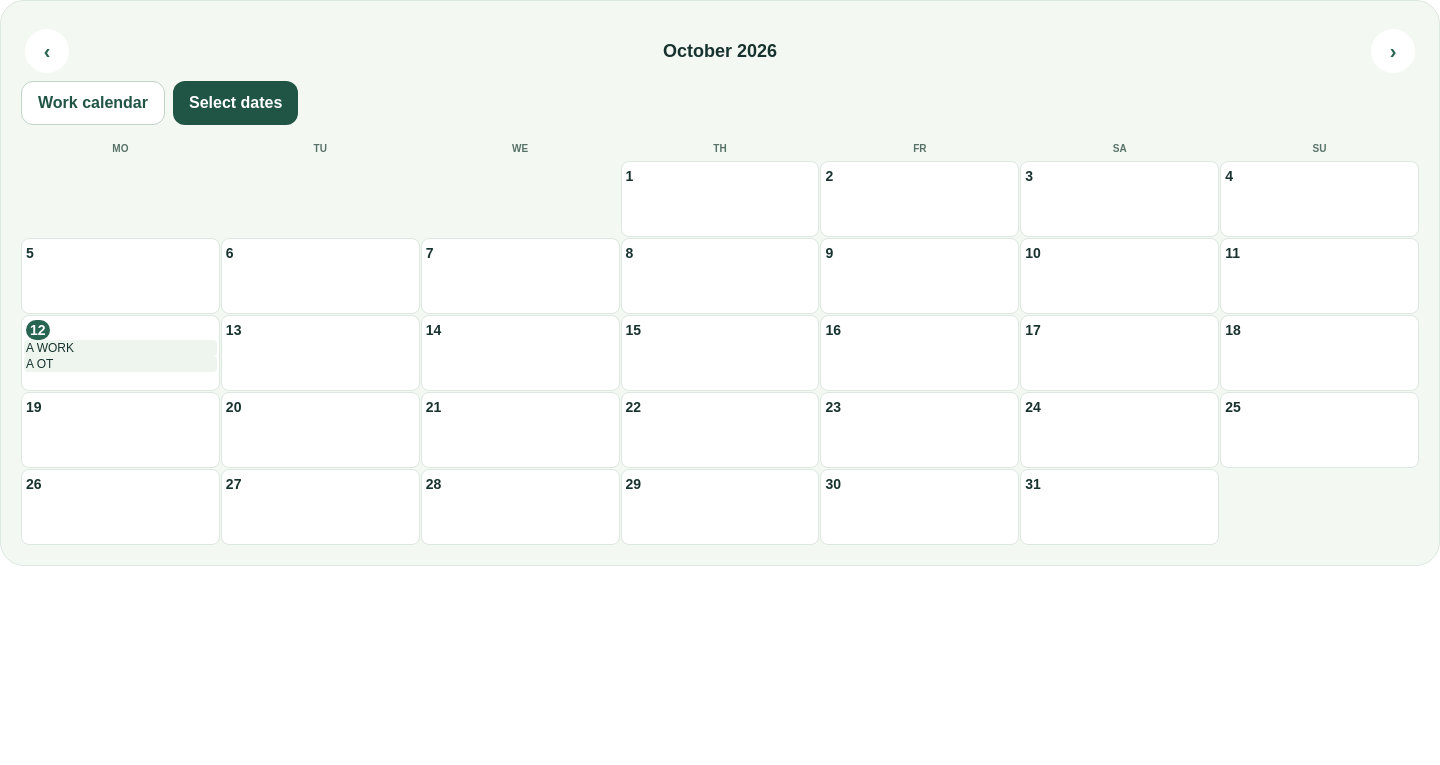
it: event UI › removes an edited event from the selected day after moving its dates
Click the button with aria-label "Open October 12, 2026" at (120, 353), box [21,315,220,391]
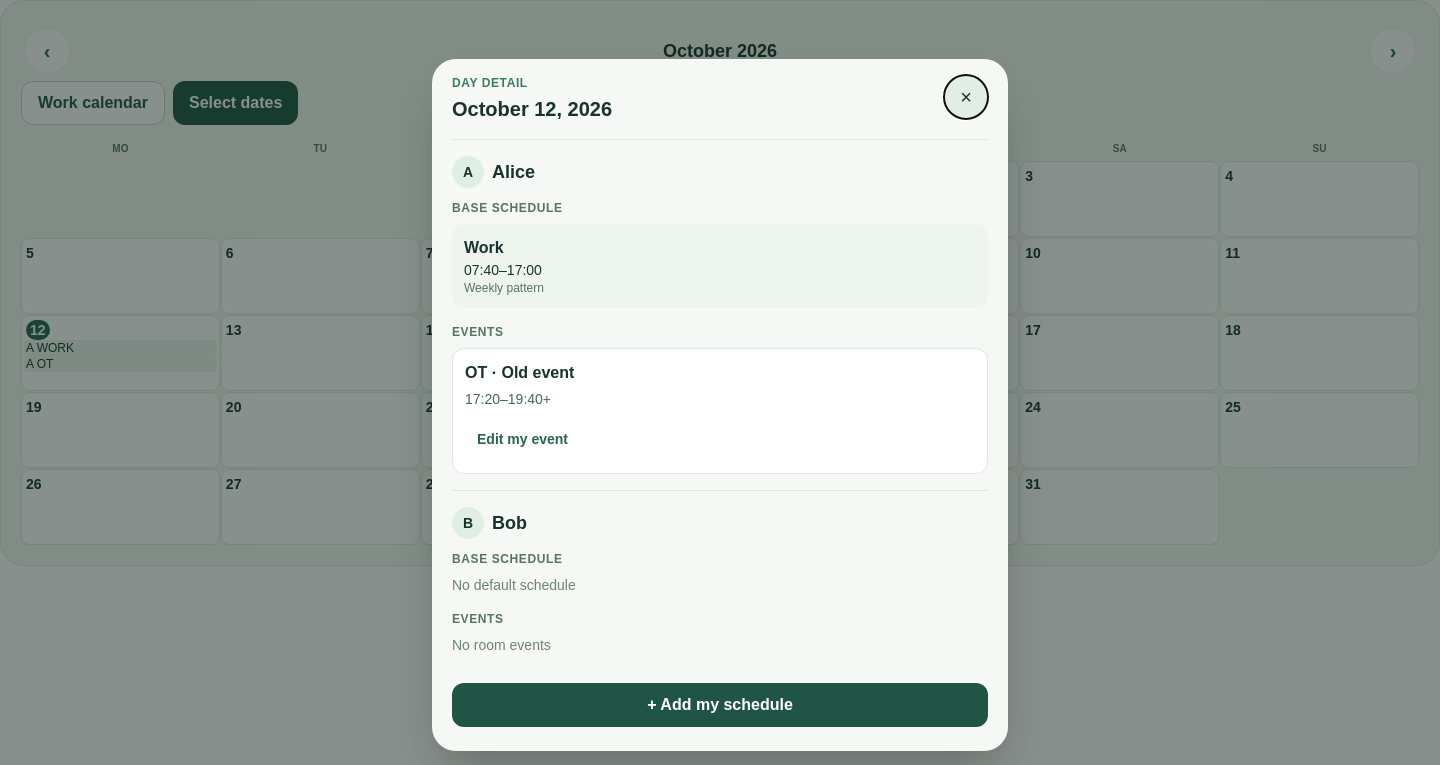
Click the button "Edit my event" at (522, 439), box [465,417,580,461]
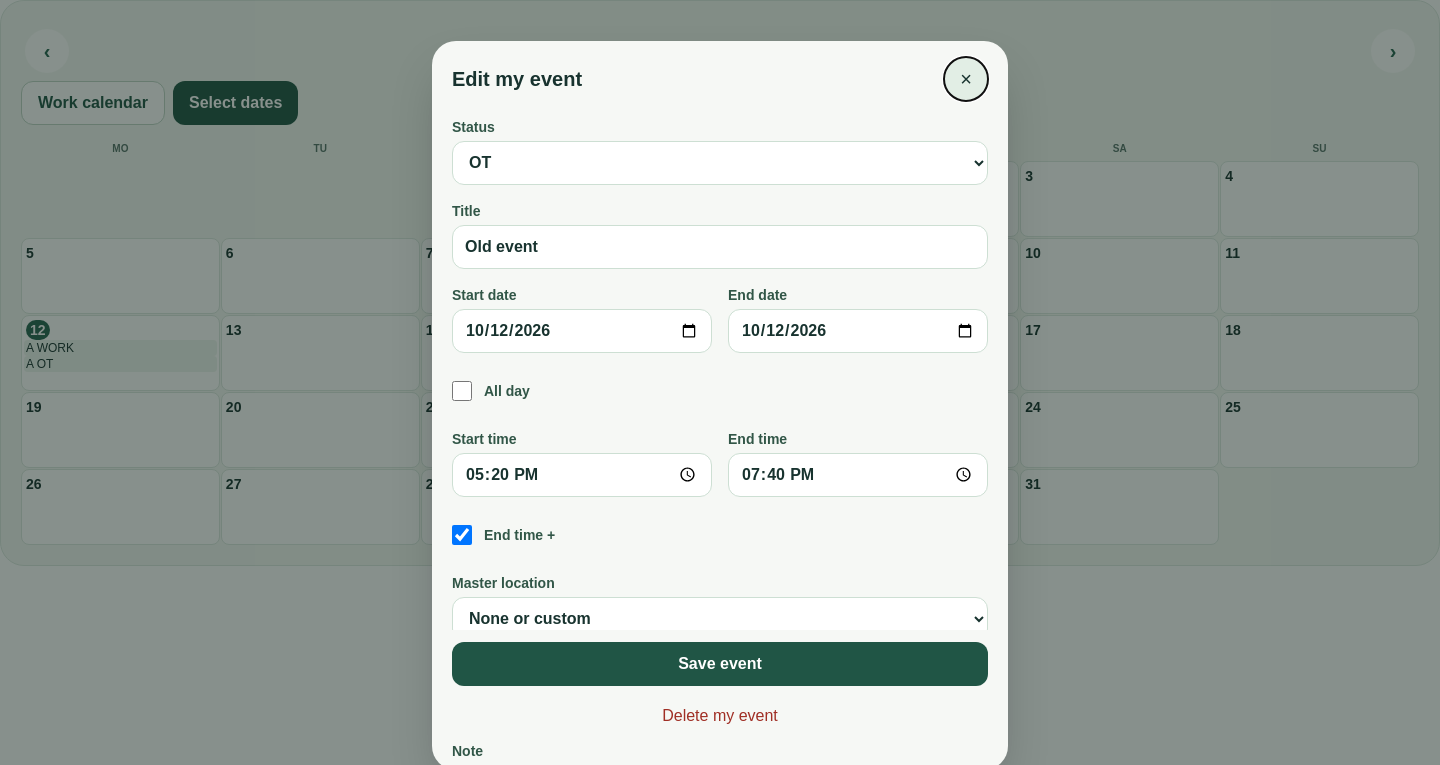
Type "2026-10-13" into the date field labelled "Start date" at (582, 330), box [452,308,712,352]
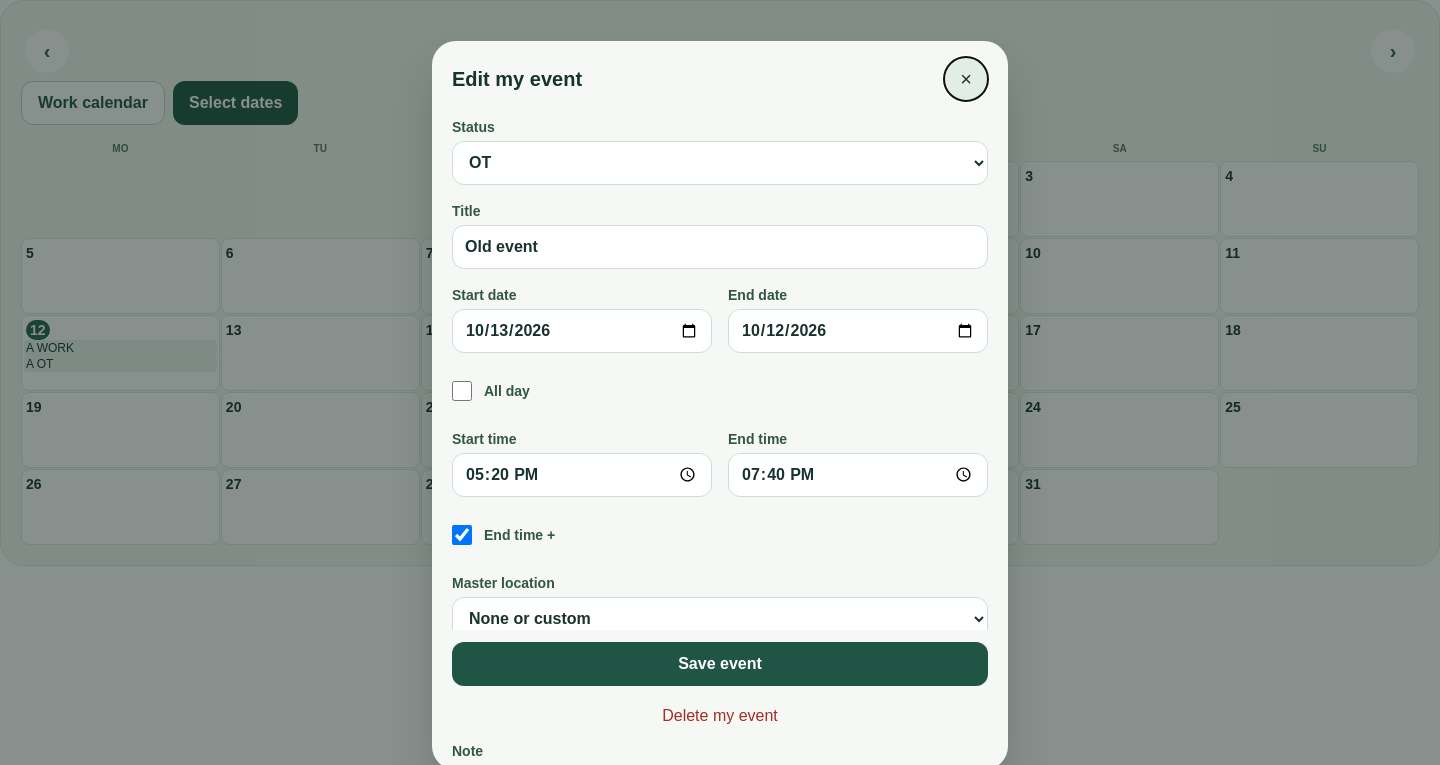
Type "2026-10-13" into the date field labelled "End date" at (858, 330), box [728,308,988,352]
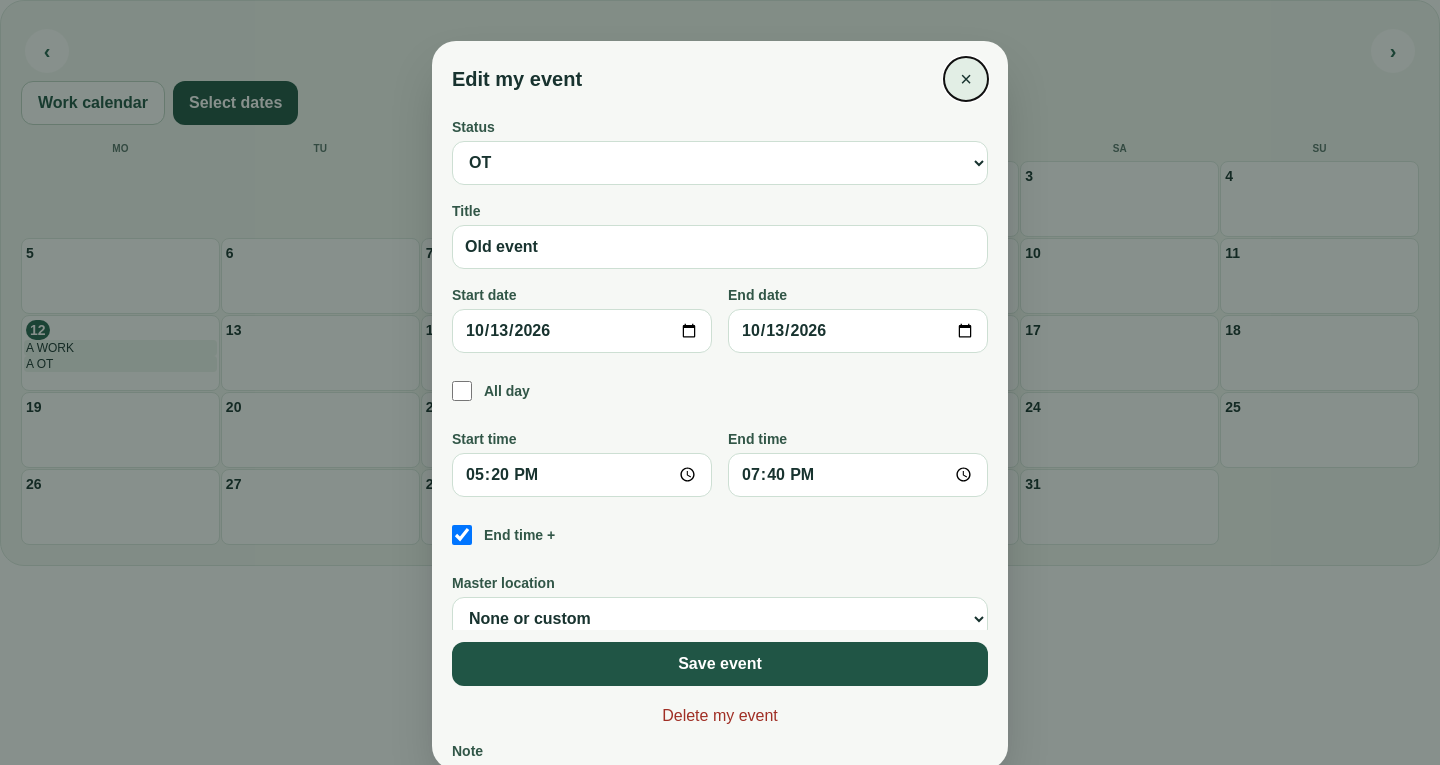
Click the button "Save event" at (720, 664), box [452,642,988,686]
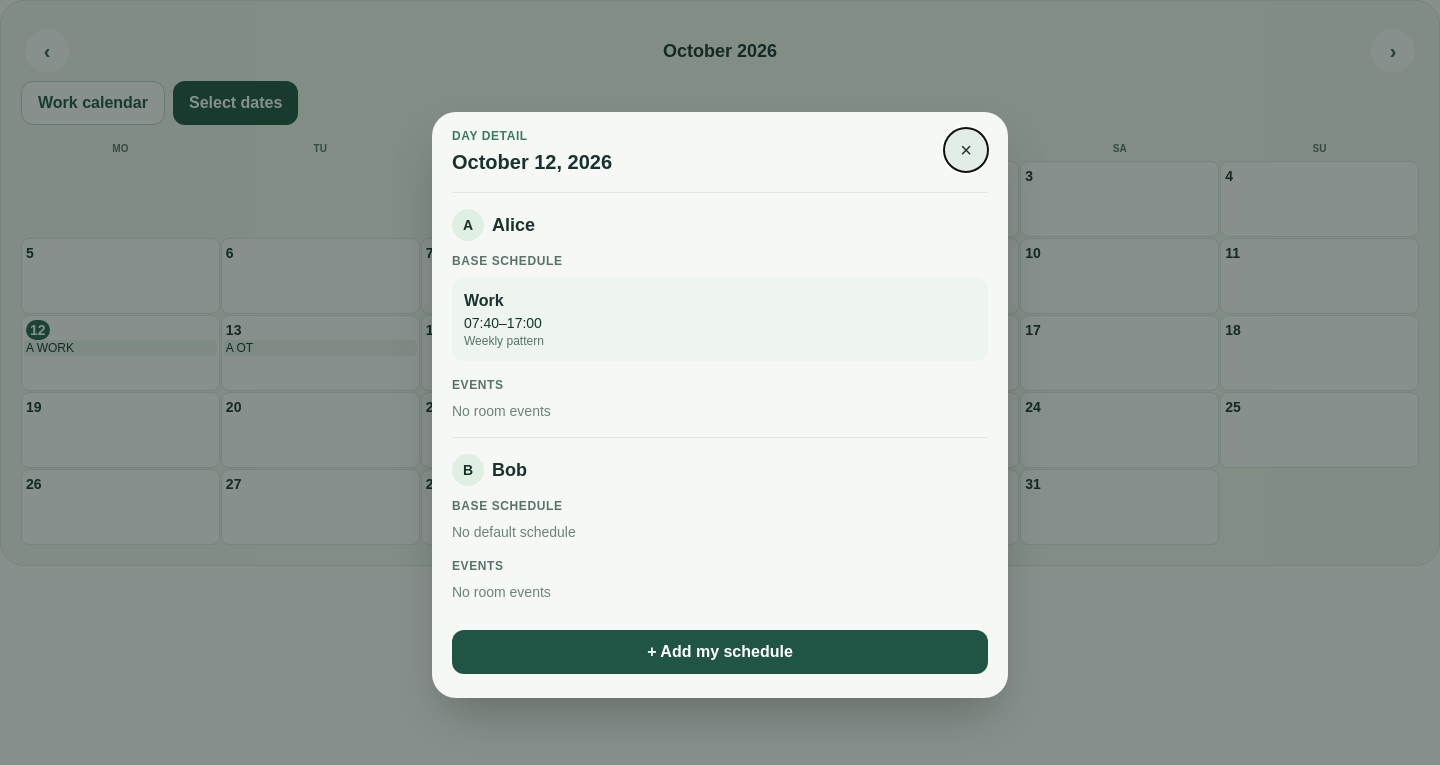
Expected: the text "Old event" is not shown
Now the text "October 12, 2026" is shown, box [452,151,612,173]
